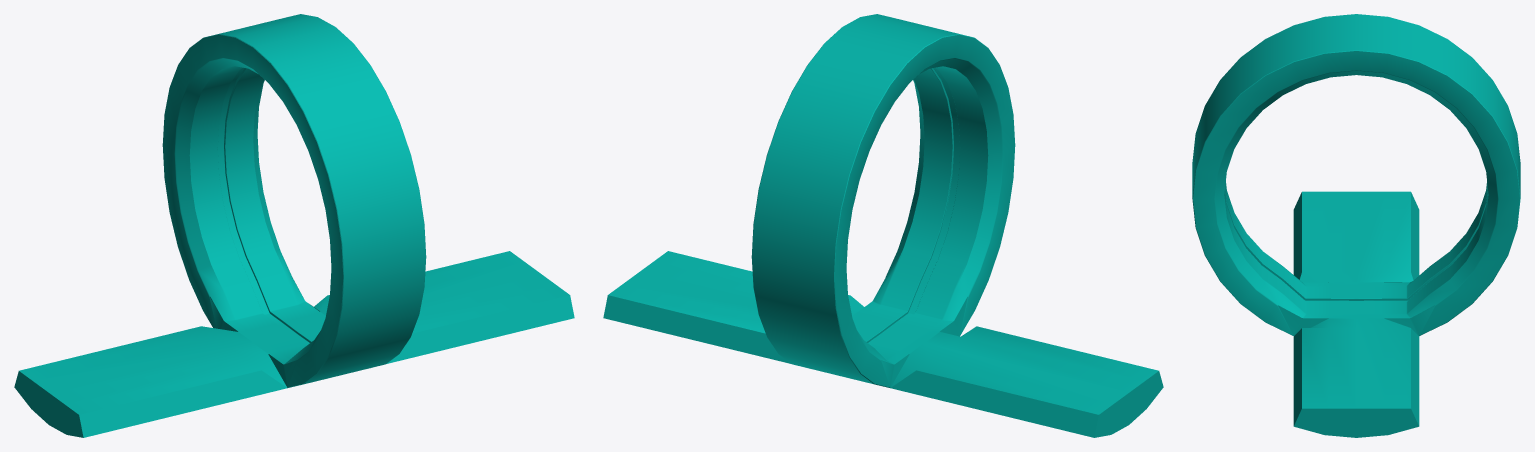
Rendered from RingMapped.fbx.
3 renders of one model, left to right at view 1: azimuth 30°, elevation 25°; view 2: azimuth 150°, elevation 25°; view 3: azimuth 270°, elevation 25°, orthographic. The views are drawn at different scales.
Visible parts, largest first — view 1: Cube; view 2: Cube; view 3: Cube.
Part boxes in pixels (x1,y1,x2,y2): Cube: [14, 14, 574, 437]; Cube: [603, 14, 1163, 437]; Cube: [1192, 14, 1520, 437].
Bounding box in the file's own units: 740 × 473 × 473.
